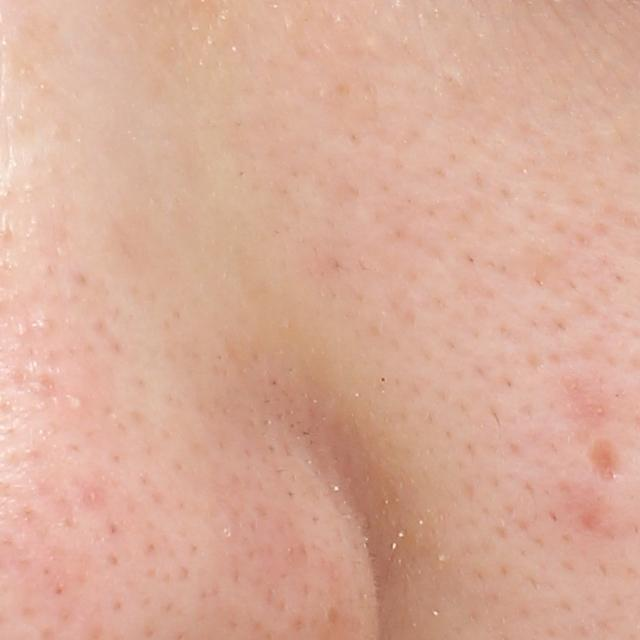atrophic_scar: (581, 438, 626, 485)
